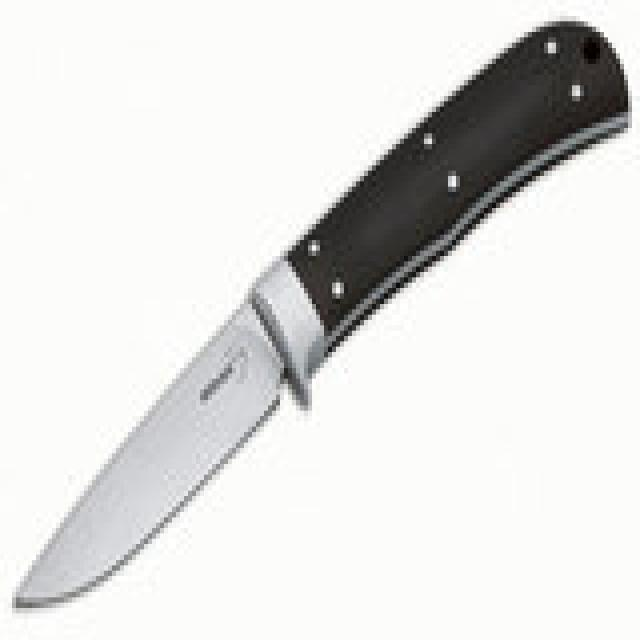Knife: (9, 20, 620, 618)
